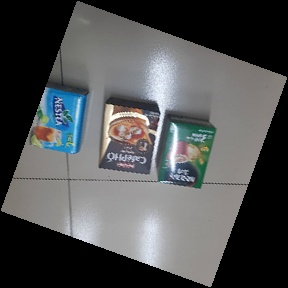CF pho: (97, 95, 162, 176)
Nes Rang: (154, 115, 215, 189)
Nestea: (23, 79, 90, 158)
